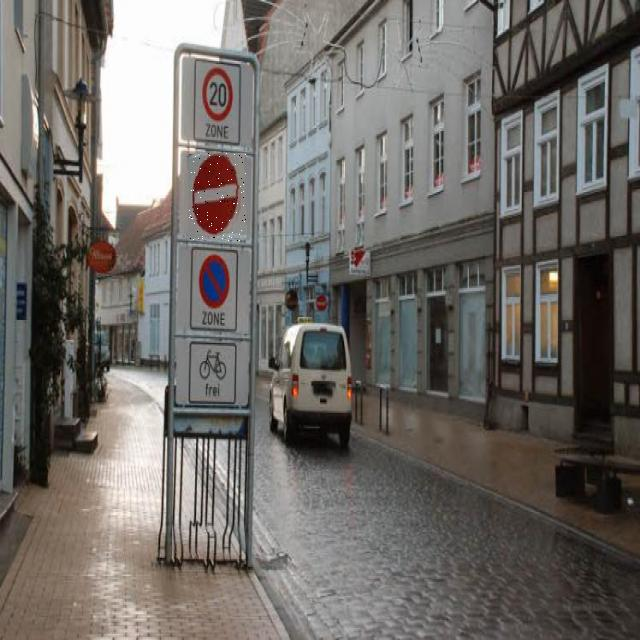no entry: (188, 153, 246, 241)
